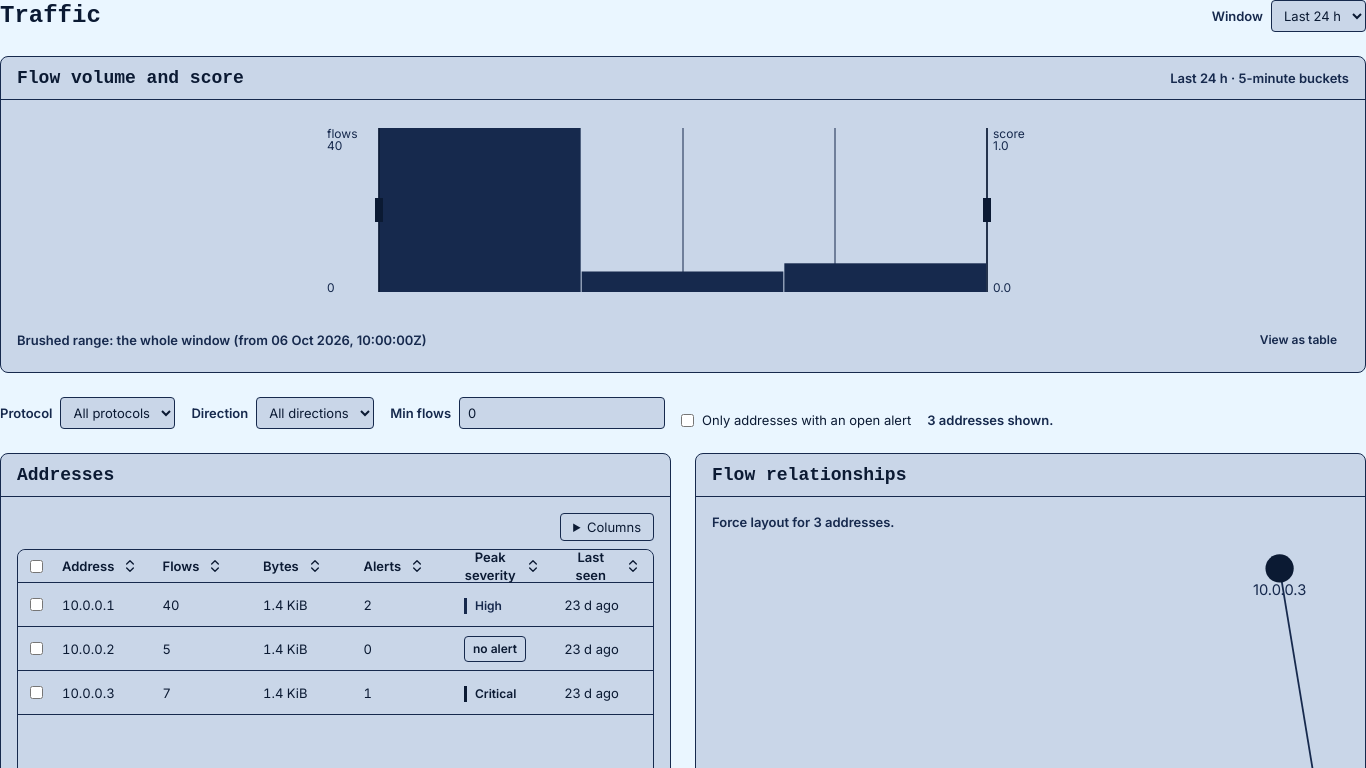
it: TrafficPage › keeps only addresses with an open alert when the toggle is on
Click the checkbox labelled "Only addresses with an open alert": [688, 420] box [681,414,694,426]
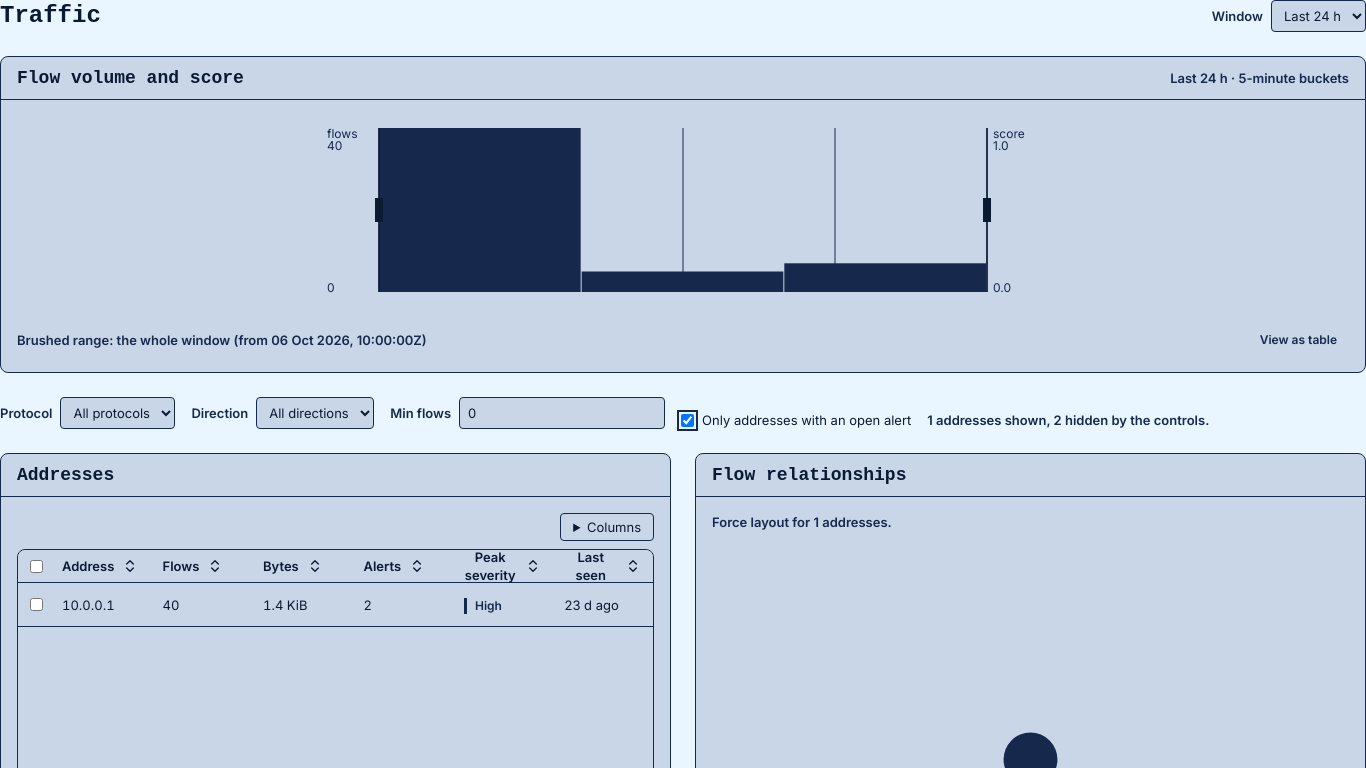
Expected: the button "10.0.0.1" is shown, [62,596,115,614]
Now the button "10.0.0.2" is gone
